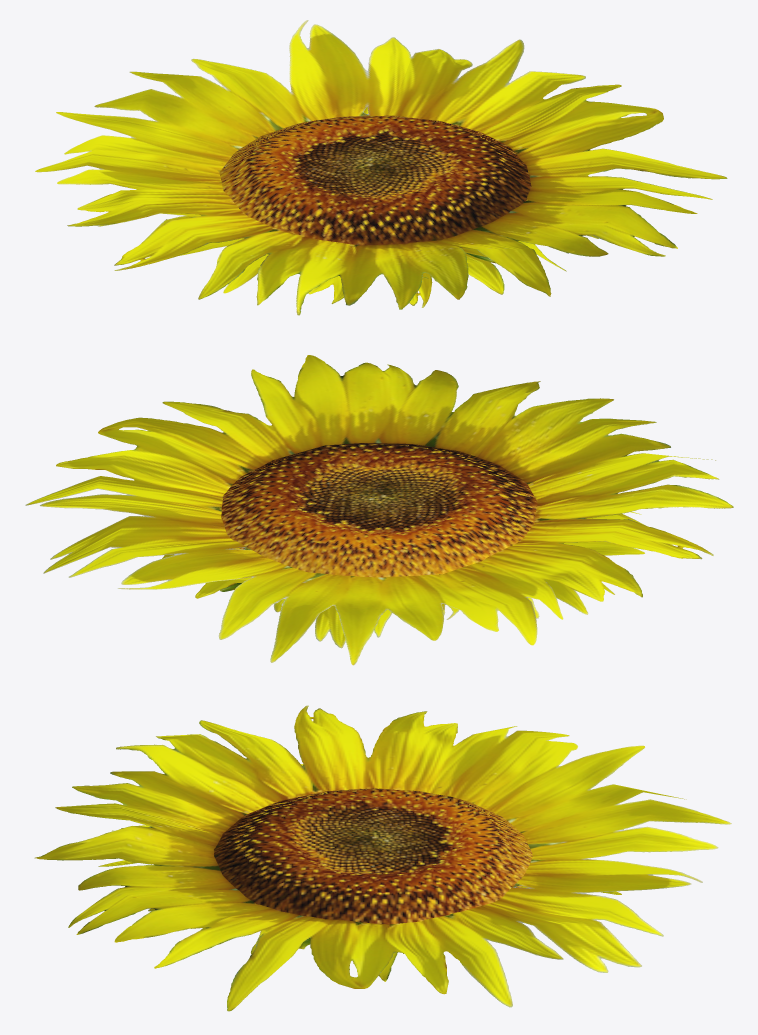
Rendered from sunflower.glb.
The picture shows the model from 3 angles, top to bottom: view 1: azimuth 30°, elevation 25°; view 2: azimuth 150°, elevation 25°; view 3: azimuth 270°, elevation 25°; orthographic projection. The views are drawn at different scales.
Visible parts, largest first — view 1: sunflower; view 2: sunflower; view 3: sunflower.
Boxes of the visible parts, x1,y1,x2,y2 form: sunflower: (35, 20, 727, 315); sunflower: (25, 355, 733, 665); sunflower: (34, 705, 731, 1011).
Size of the model in its own units: 0.1372 by 0.0108 by 0.1428.
1 material, 1 textured.
